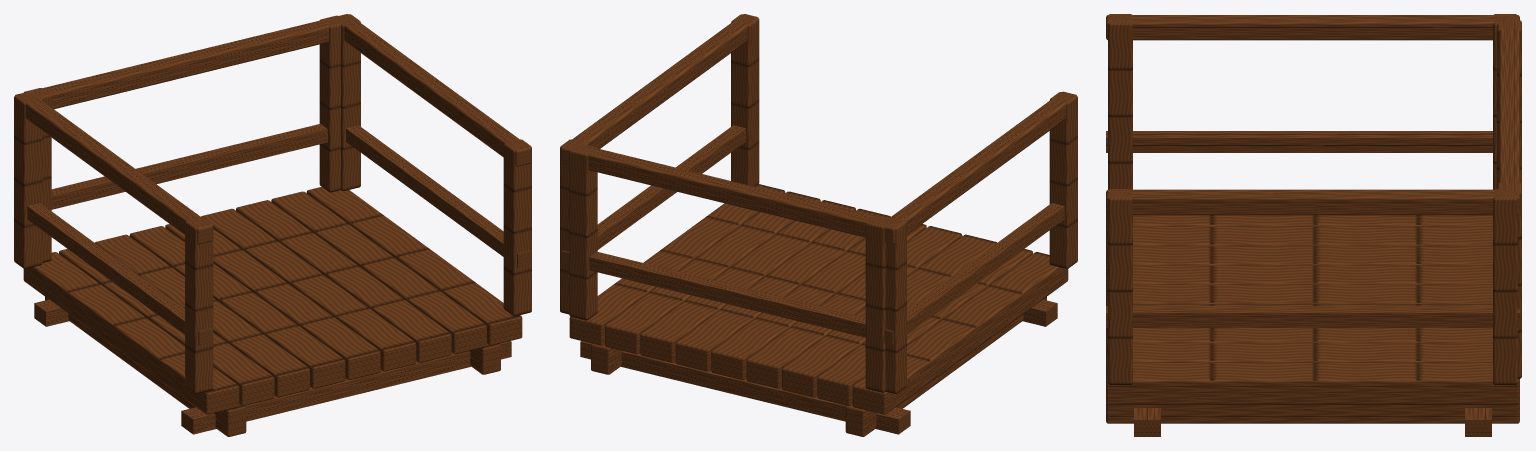
File: modular-survival-base-builder-landing-u-guard-810ad5d5__24197.glb
3 renders of one model, left to right at view 1: azimuth 30°, elevation 25°; view 2: azimuth 150°, elevation 25°; view 3: azimuth 270°, elevation 25°, orthographic. The views are drawn at different scales.
Visible parts, largest first — view 1: landing-u-guard; view 2: landing-u-guard; view 3: landing-u-guard.
Boxes of the visible parts, x1,y1,x2,y2 form: landing-u-guard: (14, 14, 531, 436); landing-u-guard: (560, 14, 1077, 436); landing-u-guard: (1106, 14, 1521, 436).
Bounding box in the file's own units: 2.12 × 1.3 × 2.01.
Materials: 1 (1 with a texture image).
